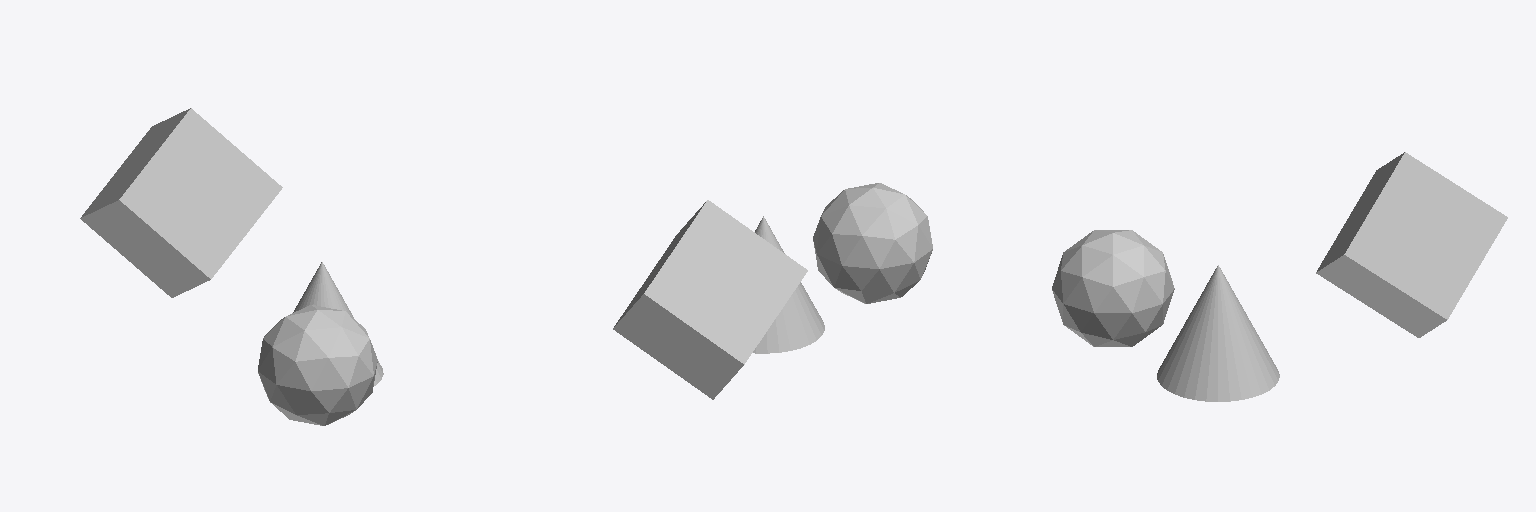
The model's file is odd.obj.
3 views of the same model, side by side, from view 1: azimuth 30°, elevation 25°; view 2: azimuth 150°, elevation 25°; view 3: azimuth 270°, elevation 25° (orthographic).
Parts seen in each view (by area): view 1: Cube.001, Icosphere, Cone; view 2: Cube.001, Icosphere, Cone; view 3: Cube.001, Icosphere, Cone.
Boxes of the visible parts, box(x1,y1,x2,y2) form: Cube.001: box(80, 108, 282, 297); Icosphere: box(258, 305, 377, 425); Cone: box(293, 262, 383, 385); Cube.001: box(613, 200, 807, 399); Icosphere: box(813, 183, 932, 303); Cone: box(753, 216, 824, 353); Cube.001: box(1316, 152, 1507, 337); Icosphere: box(1052, 230, 1174, 346); Cone: box(1157, 265, 1279, 401).
Bounding box in the file's own units: 3.32 × 3.69 × 7.41.